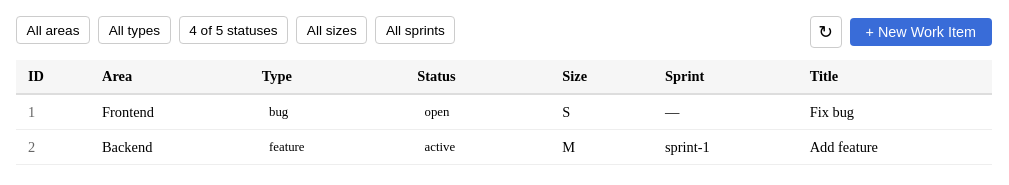
WorkItemList › sprint filter lists distinct sprints plus Unassigned, all selected by default
Expected: the text "Fix bug" is shown, [798,94,992,130]
Step 1. Click the button "All sprints" → (415, 30), box [375,16,455,44]
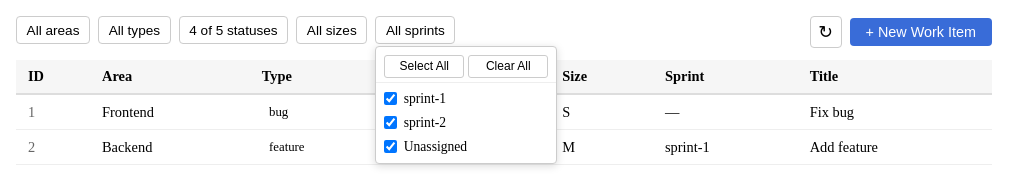
Result: the text "sprint-1" is shown at [384,91,446,106]
Result: the text "sprint-2" is shown at [384,115,446,130]
Result: the text "Unassigned" is shown at [384,139,467,154]
